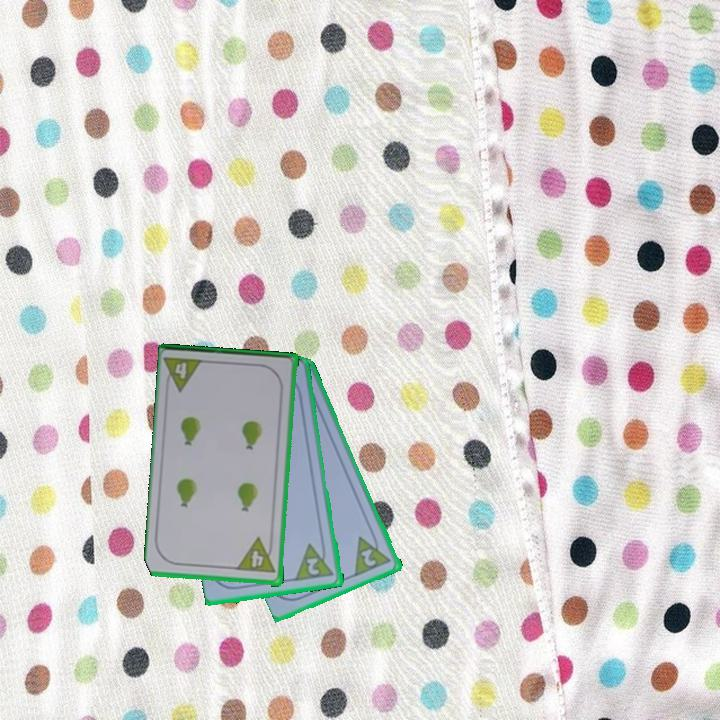2p: (293, 539, 337, 584), (358, 545, 380, 570)
4p: (234, 535, 268, 572), (172, 359, 190, 382)
